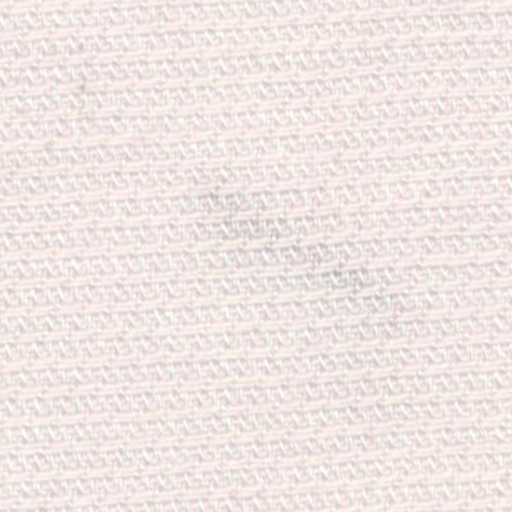WuZi: (168, 166, 420, 362)
